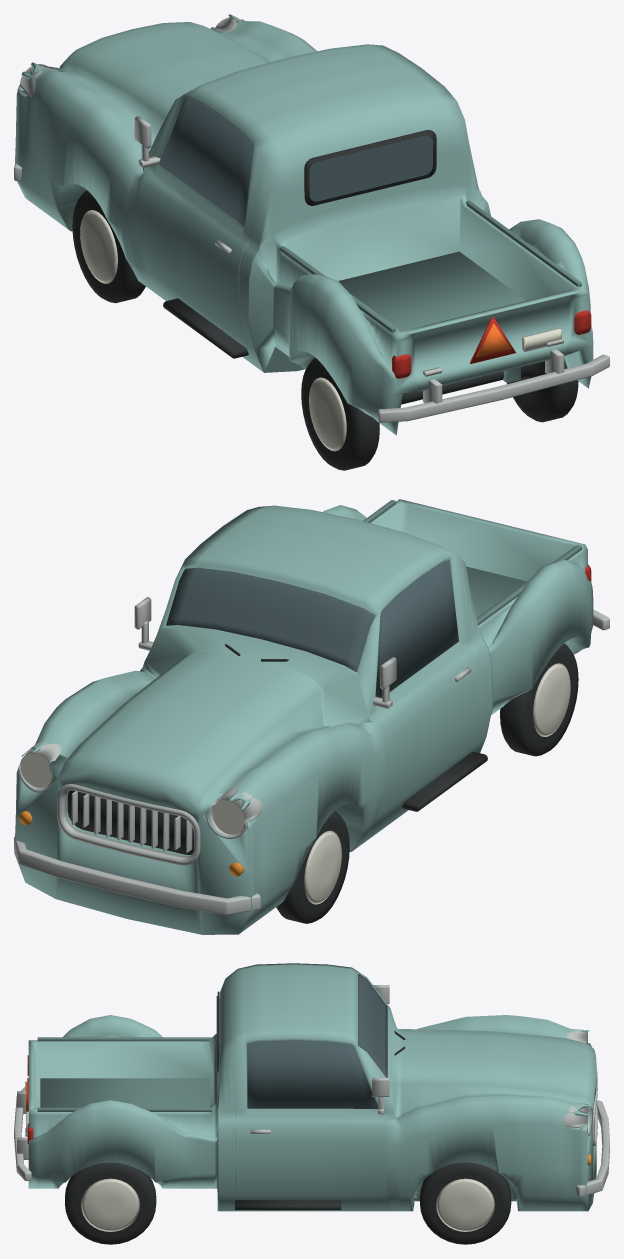
Rendered from duett-p210-epa.glb.
3 views of the same model, one above another, from view 1: azimuth 30°, elevation 25°; view 2: azimuth 150°, elevation 25°; view 3: azimuth 270°, elevation 25° (orthographic). The views are drawn at different scales.
Parts seen in each view (by area): view 1: body, trim_darker, glass_envelope, glass_rear, trim_aged, bumper_rear, wheel_rl, wheel_fl, wheel_rr, trim_rim_rl, trim_rim_fl, trim_restrained (+2 smaller); view 2: body, glass_envelope, grille_restrained, bumper_front, wheel_rl, wheel_fl, grille_backing, trim_darker, trim_rim_fl, trim_rim_rl, lamp_headlamp, trim_aged (+2 smaller); view 3: body, glass_envelope, trim_darker, wheel_rr, wheel_fr, trim_rim_rr, trim_rim_fr, trim_aged, trim_restrained, bumper_front, mirror_restrained, bumper_rear.
Part boxes in pixels (bbox=[...]): body: bbox=[14, 14, 593, 435]; trim_darker: bbox=[279, 200, 581, 332]; glass_envelope: bbox=[158, 98, 253, 225]; glass_rear: bbox=[309, 135, 432, 201]; trim_aged: bbox=[163, 130, 503, 404]; bumper_rear: bbox=[378, 354, 609, 422]; wheel_rl: bbox=[301, 358, 379, 470]; wheel_fl: bbox=[72, 190, 145, 303]; wheel_rr: bbox=[503, 359, 578, 422]; trim_rim_rl: bbox=[309, 377, 346, 451]; trim_rim_fl: bbox=[80, 210, 117, 283]; trim_restrained: bbox=[17, 17, 564, 403]; body: bbox=[14, 499, 593, 934]; glass_envelope: bbox=[166, 560, 458, 697]; grille_restrained: bbox=[57, 783, 200, 865]; bumper_front: bbox=[14, 836, 260, 914]; wheel_rl: bbox=[500, 643, 578, 756]; wheel_fl: bbox=[276, 811, 349, 923]; grille_backing: bbox=[67, 790, 193, 854]; trim_darker: bbox=[363, 500, 581, 625]; trim_rim_fl: bbox=[304, 830, 341, 904]; trim_rim_rl: bbox=[533, 663, 570, 736]; lamp_headlamp: bbox=[20, 753, 244, 834]; trim_aged: bbox=[224, 644, 487, 811]; body: bbox=[28, 963, 596, 1211]; glass_envelope: bbox=[247, 973, 387, 1108]; trim_darker: bbox=[37, 1037, 212, 1111]; wheel_rr: bbox=[65, 1162, 156, 1244]; wheel_fr: bbox=[420, 1162, 511, 1244]; trim_rim_rr: bbox=[81, 1178, 139, 1231]; trim_rim_fr: bbox=[436, 1178, 494, 1231]; trim_aged: bbox=[217, 991, 405, 1209]; trim_restrained: bbox=[17, 1030, 592, 1159]; bumper_front: bbox=[576, 1100, 609, 1197]; mirror_restrained: bbox=[372, 985, 389, 1114]; bumper_rear: bbox=[14, 1087, 31, 1181].
Size of the model in its own units: 1.68 by 1.72 by 4.37.
